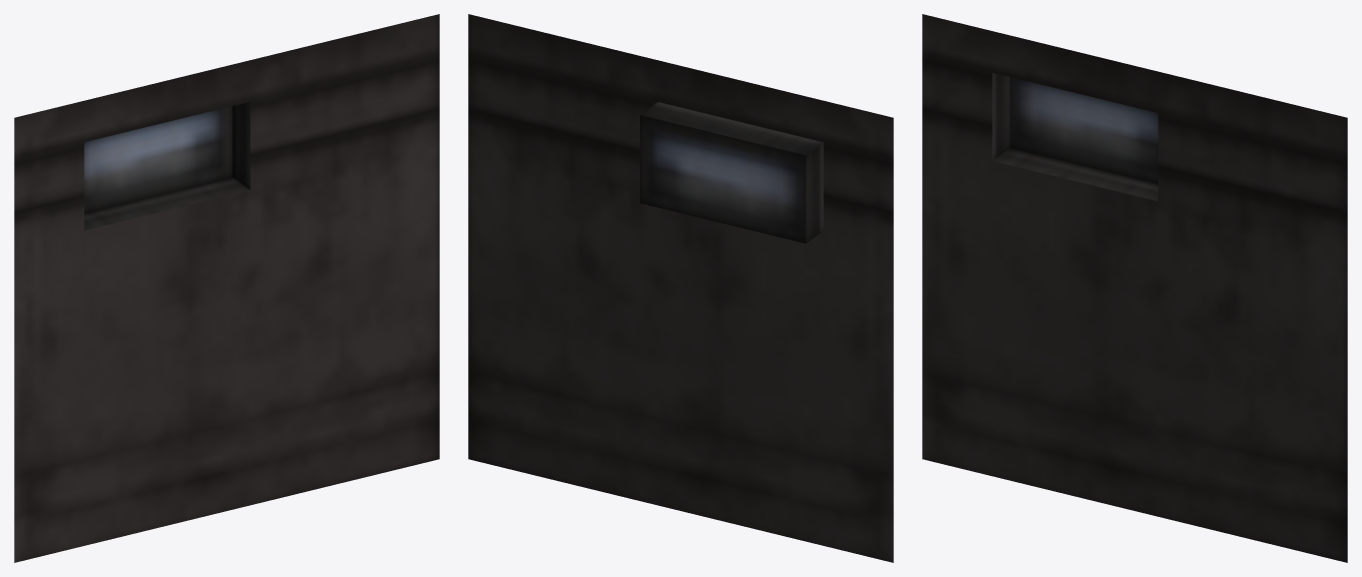
The model's file is B10_WallWithWindow.FBX.
3 views of the same model, side by side, from view 1: azimuth 30°, elevation 25°; view 2: azimuth 150°, elevation 25°; view 3: azimuth 330°, elevation 25° (orthographic).
Parts seen in each view (by area): view 1: B10_WallWithWindow; view 2: B10_WallWithWindow; view 3: B10_WallWithWindow.
Part boxes in pixels (box(x1,y1,x2,y2)): B10_WallWithWindow: box(14, 14, 439, 562); B10_WallWithWindow: box(468, 14, 893, 562); B10_WallWithWindow: box(922, 14, 1347, 562).
Size of the model in its own units: 4 by 4 by 0.2909.
